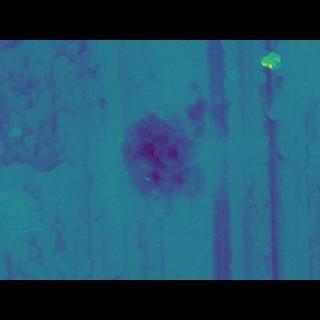Loch: (0, 91, 259, 221)
